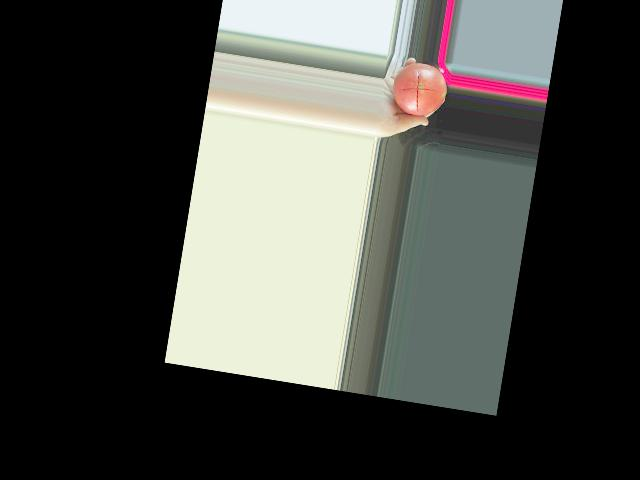tomato: (388, 58, 450, 119)
